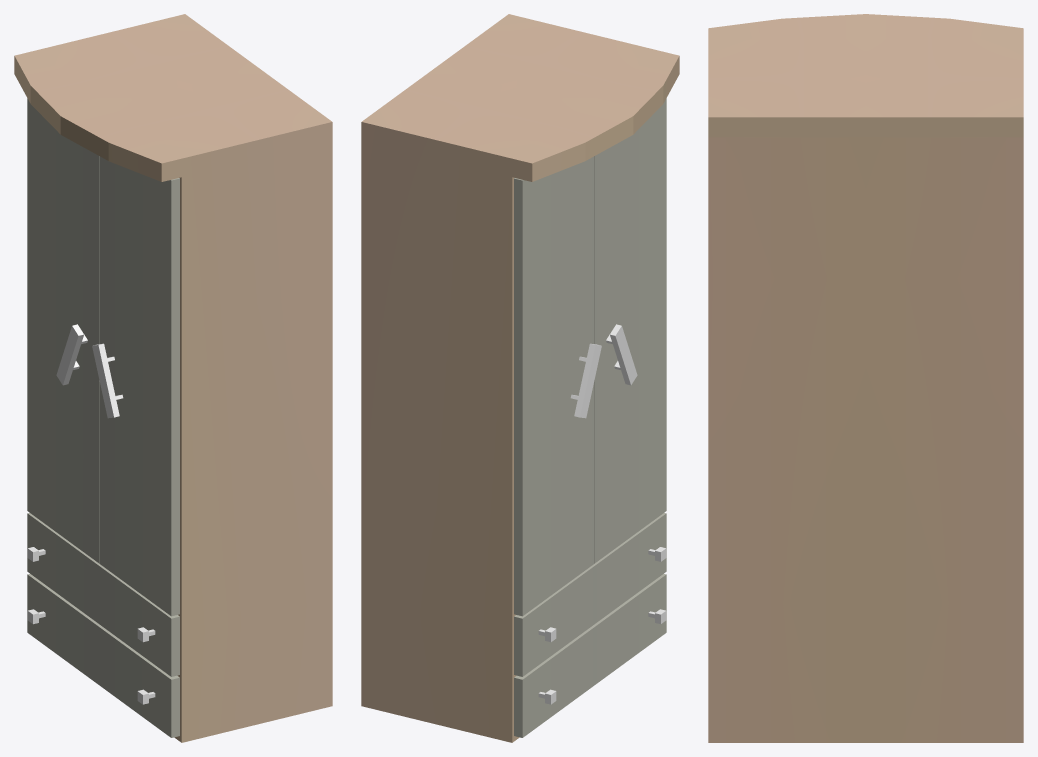
Rendered from shkaf.fbx.
3 views of the same model, side by side, from view 1: azimuth 30°, elevation 25°; view 2: azimuth 150°, elevation 25°; view 3: azimuth 270°, elevation 25° (orthographic). The views are drawn at different scales.
Visible parts, largest first — view 1: Cube.017; view 2: Cube.017; view 3: Cube.017.
Boxes of the visible parts, x1,y1,x2,y2 form: Cube.017: [14, 14, 332, 742]; Cube.017: [361, 14, 679, 742]; Cube.017: [708, 14, 1023, 742].
Bounding box in the file's own units: 263 × 741 × 339.
